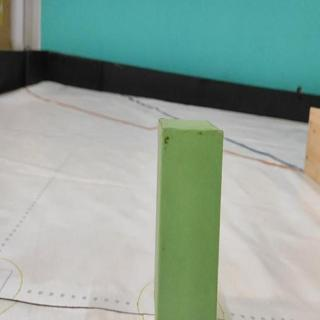greenbox: (155, 117, 225, 320)
